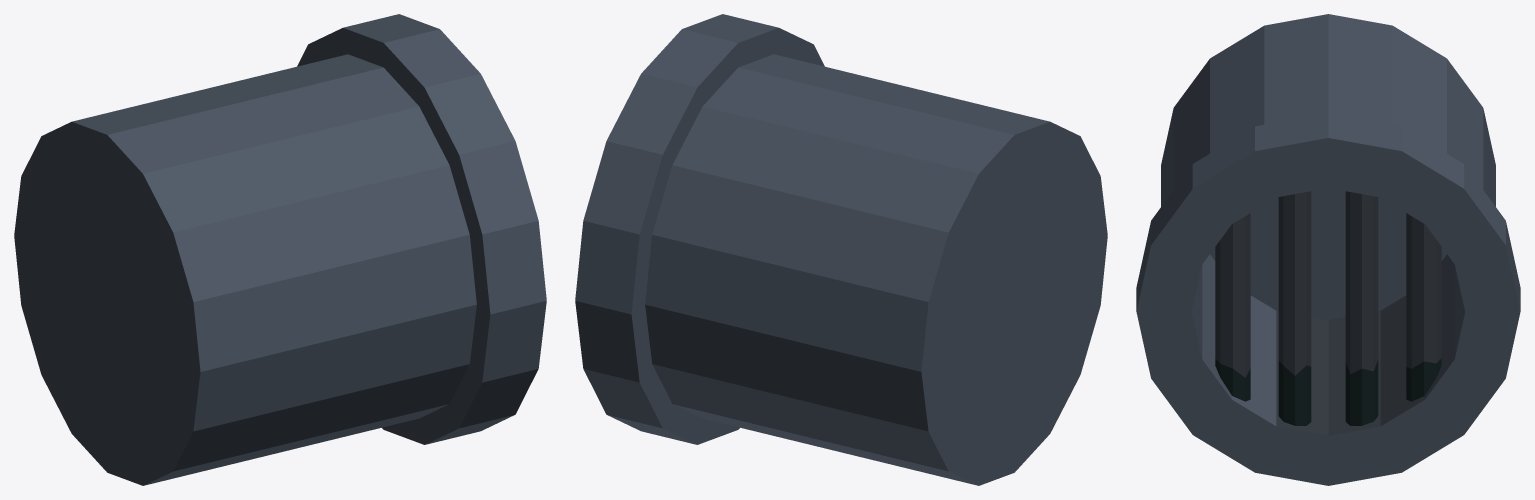
File: SewerPipe.fbx
3 renders of one model, left to right at view 1: azimuth 30°, elevation 25°; view 2: azimuth 150°, elevation 25°; view 3: azimuth 270°, elevation 25°, orthographic. The views are drawn at different scales.
Visible parts, largest first — view 1: Cylinder; view 2: Cylinder; view 3: Cylinder.
Boxes of the visible parts, x1,y1,x2,y2 form: Cylinder: [14, 14, 546, 485]; Cylinder: [575, 14, 1107, 485]; Cylinder: [1136, 14, 1520, 485].
Size of the model in its own units: 326 by 293 by 326.
